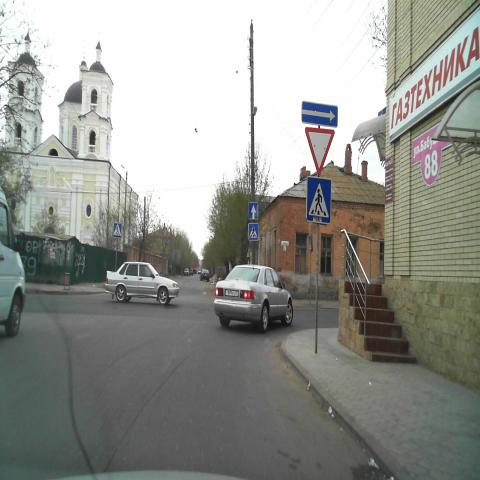5_7_1: (300, 100, 338, 128)
